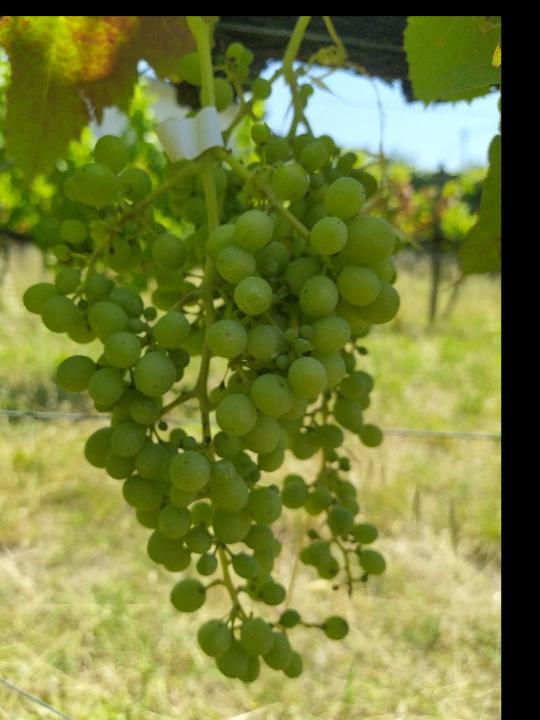grape: (19, 125, 403, 688)
